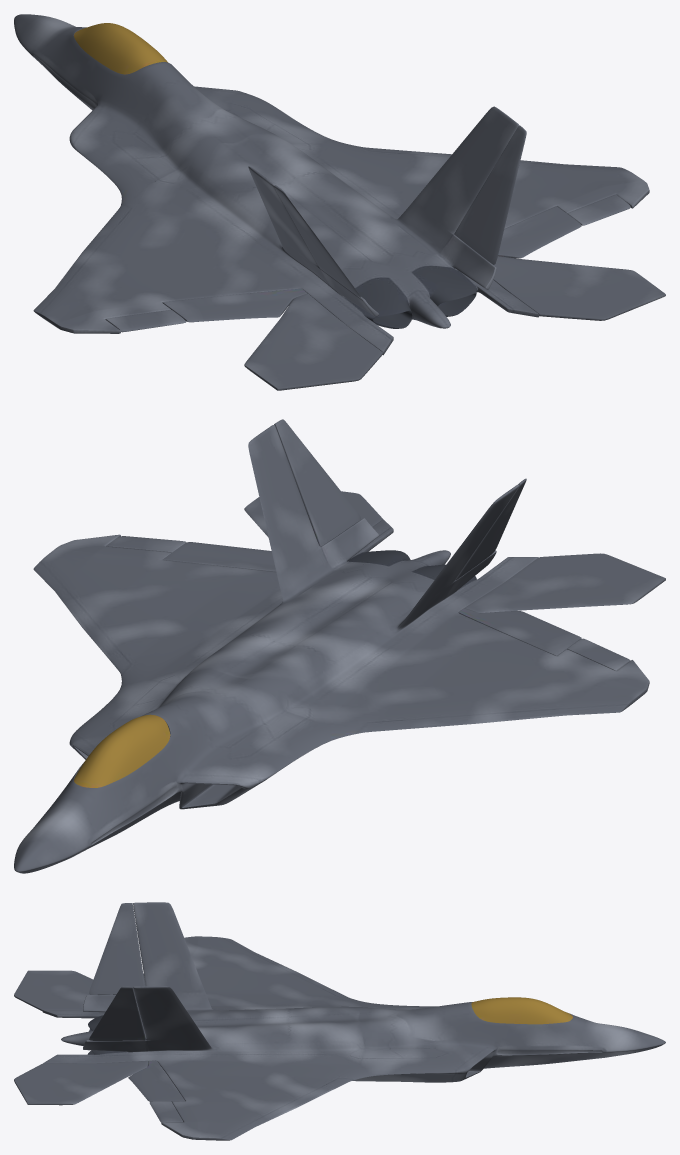
The picture shows the model from 3 angles, top to bottom: view 1: azimuth 30°, elevation 25°; view 2: azimuth 150°, elevation 25°; view 3: azimuth 270°, elevation 25°; orthographic projection. The views are drawn at different scales.
Parts seen in each view (by area): view 1: aircraft; view 2: aircraft; view 3: aircraft.
Part boxes in pixels (box(x1,y1,x2,y2)): aircraft: box(14, 14, 665, 390); aircraft: box(14, 419, 665, 873); aircraft: box(14, 902, 665, 1140).
Size of the model in its own units: 73.51 by 21.61 by 101.
1 material, 1 textured.
